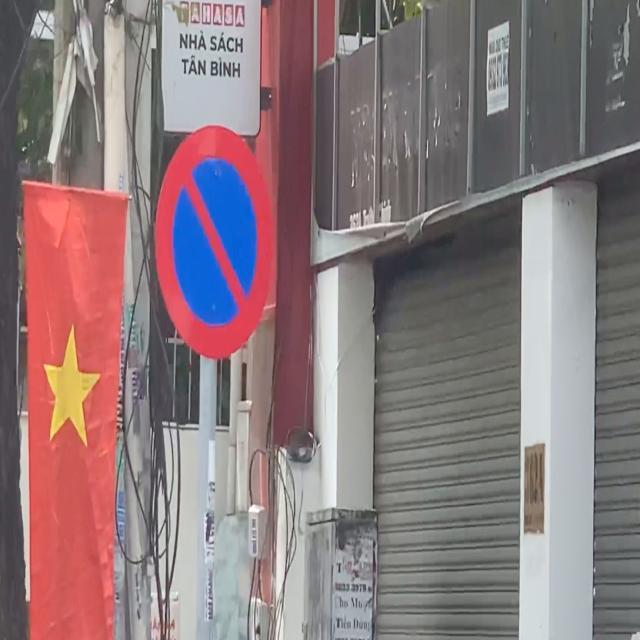Cam do: (154, 125, 273, 361)
